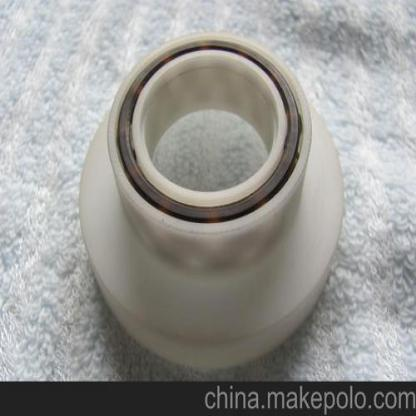FOD: (73, 23, 355, 370)
